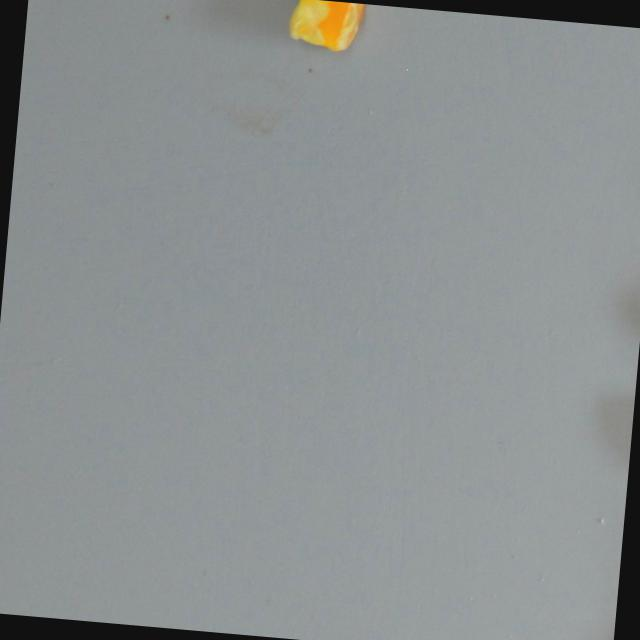pelicula: (283, 0, 364, 55)
